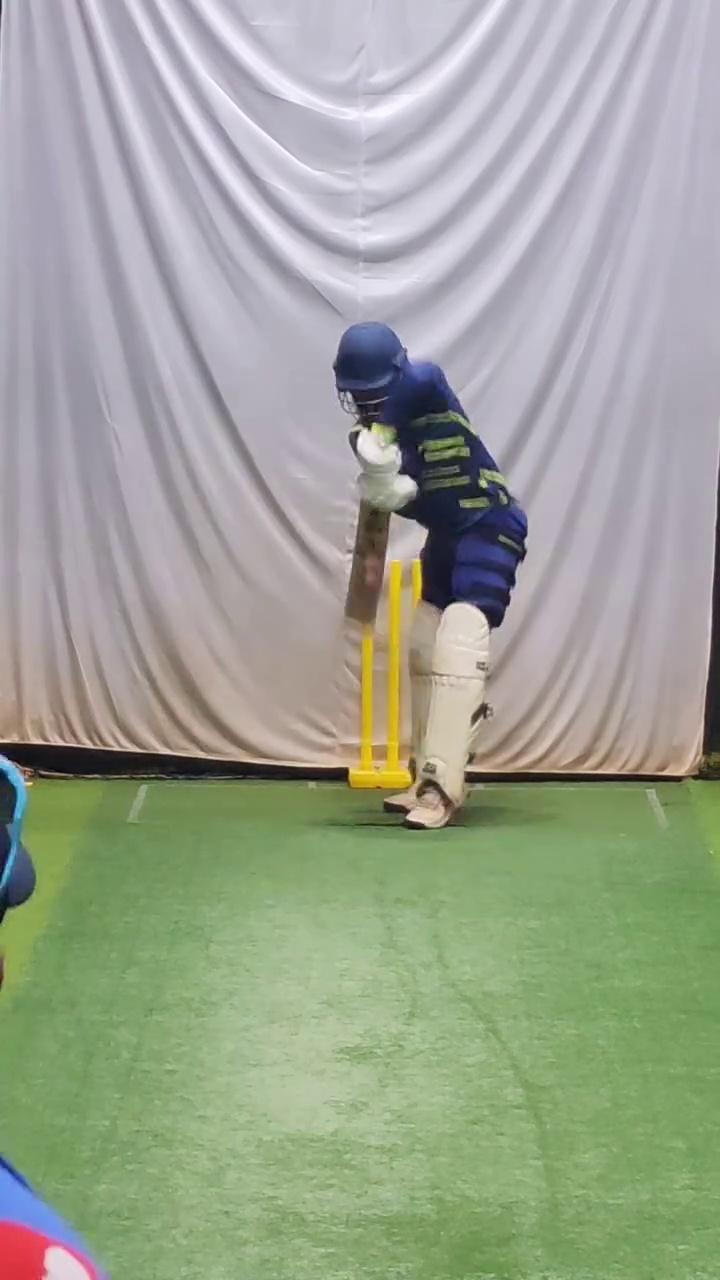bat: (342, 497, 393, 631)
